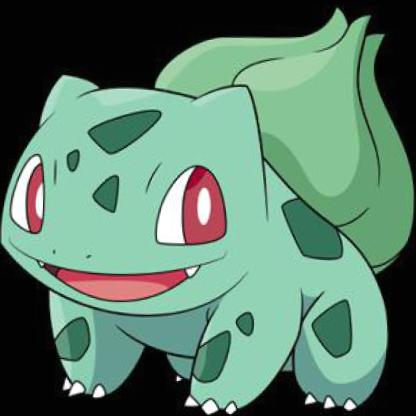Bisasam: (52, 44, 392, 409)
